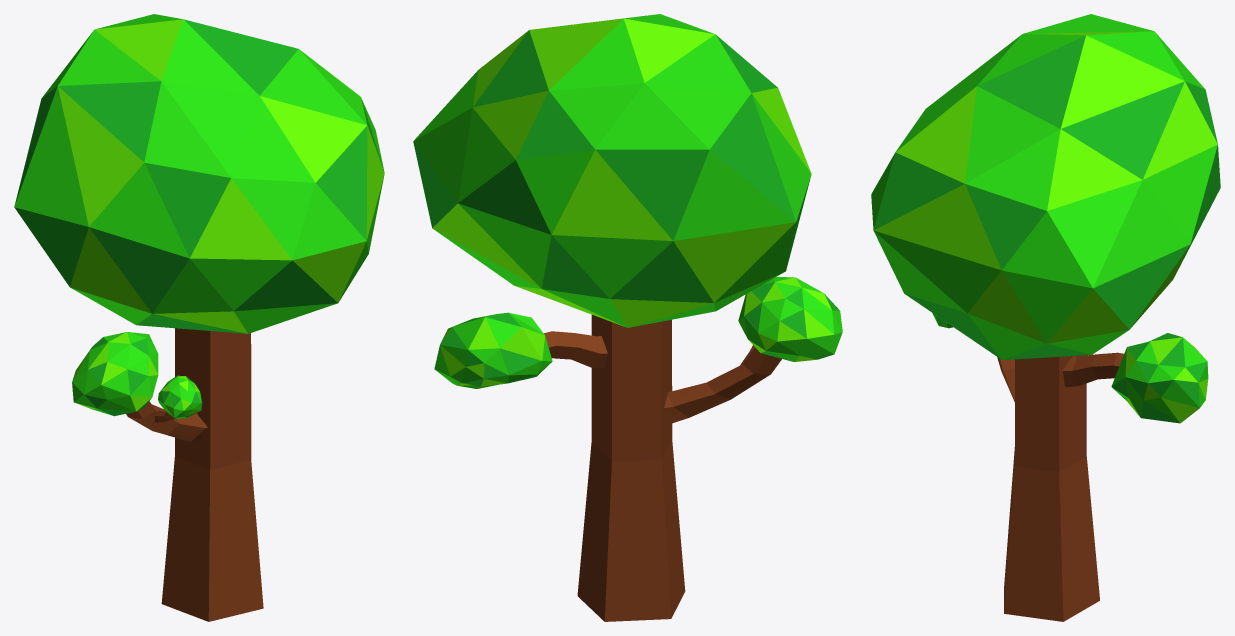
The model's file is arvore_low_poly.glb.
3 views of the same model, side by side, from view 1: azimuth 30°, elevation 25°; view 2: azimuth 150°, elevation 25°; view 3: azimuth 270°, elevation 25° (orthographic). The views are drawn at different scales.
Visible parts, largest first — view 1: Cylinder; view 2: Cylinder; view 3: Cylinder.
Boxes of the visible parts, bbox=[...] form: Cylinder: bbox=[14, 14, 384, 621]; Cylinder: bbox=[413, 14, 842, 621]; Cylinder: bbox=[871, 14, 1220, 621].
Bounding box in the file's own units: 3.88 × 5.81 × 3.29.
